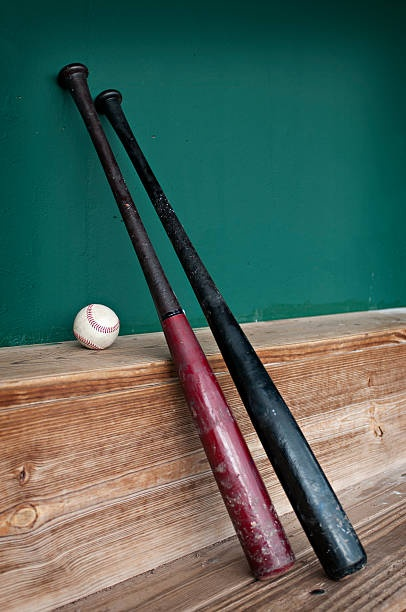bita: (95, 87, 365, 577), (58, 61, 298, 578)
